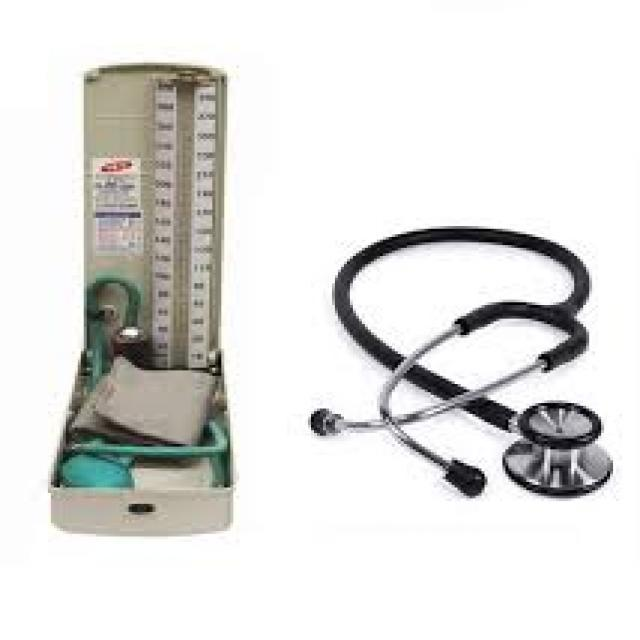stethoscope: (296, 183, 625, 554)
